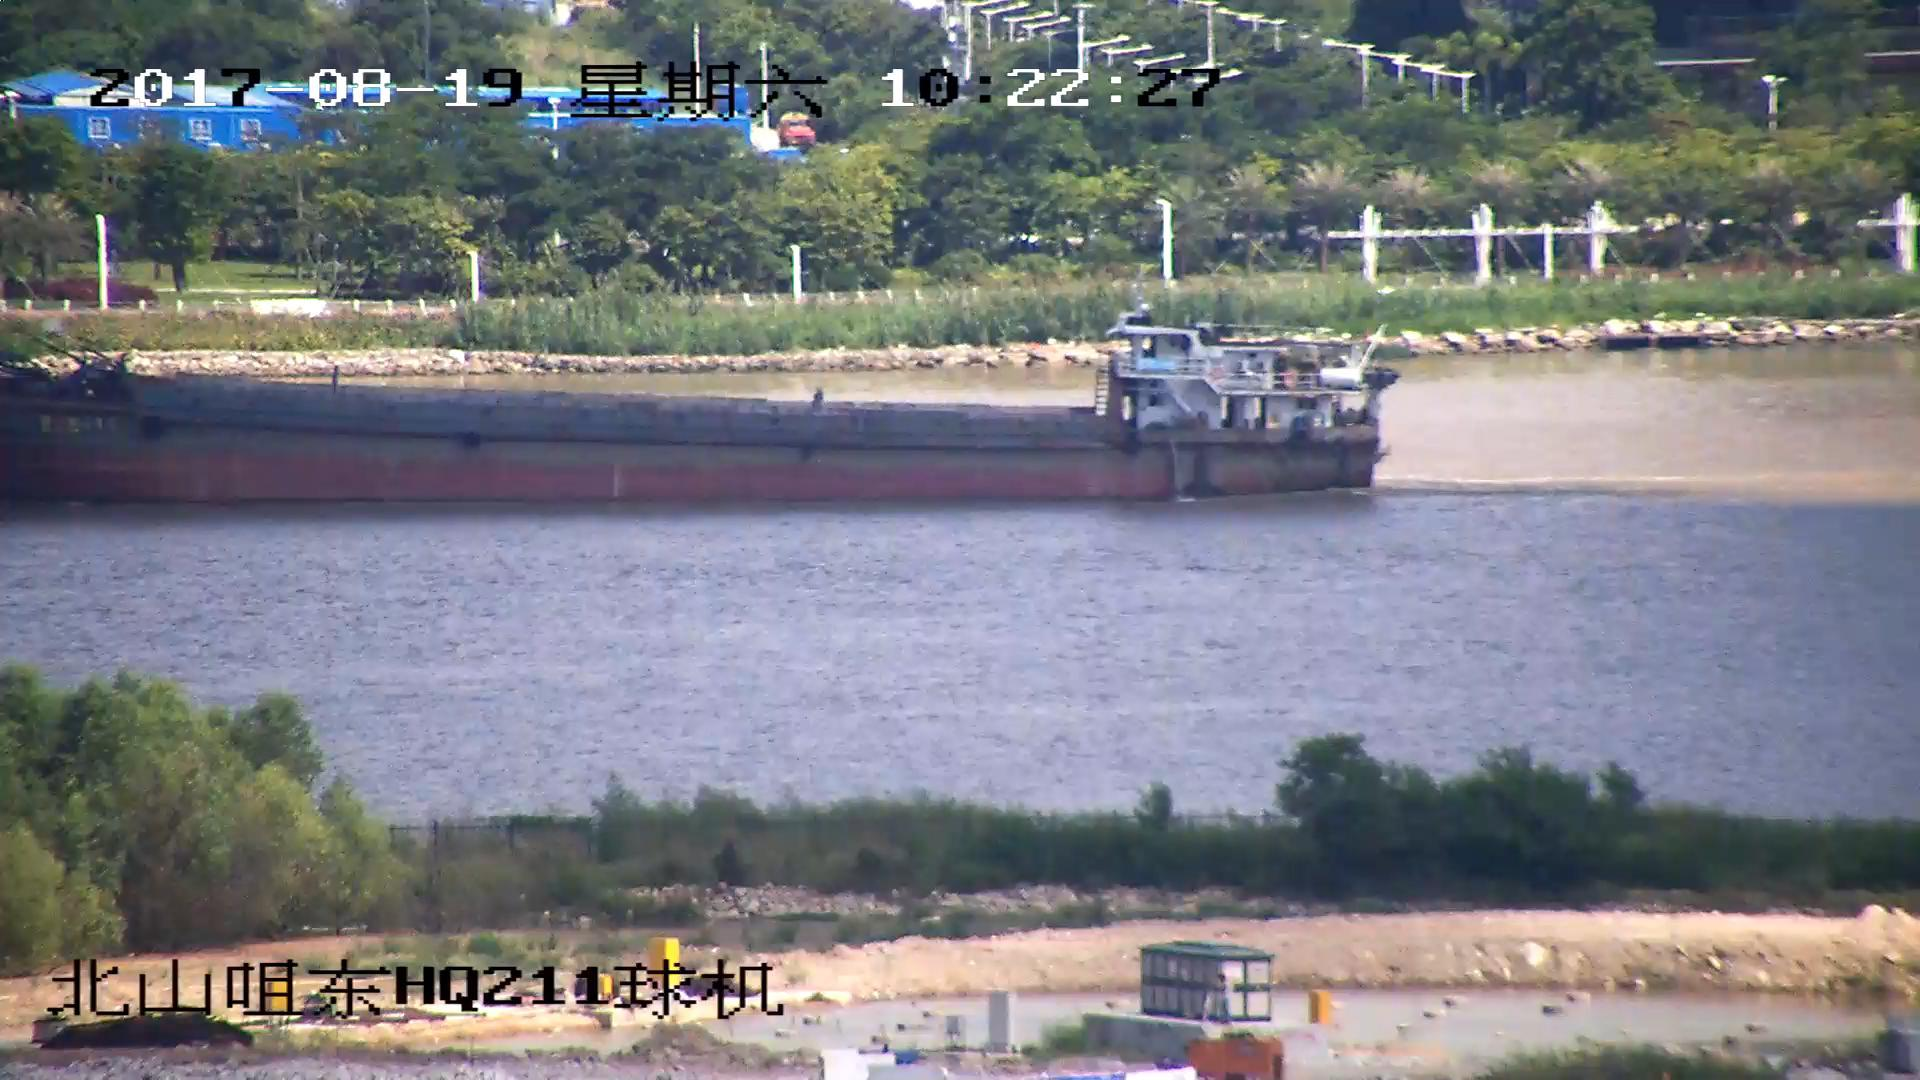Ship: (3, 303, 1375, 506)
